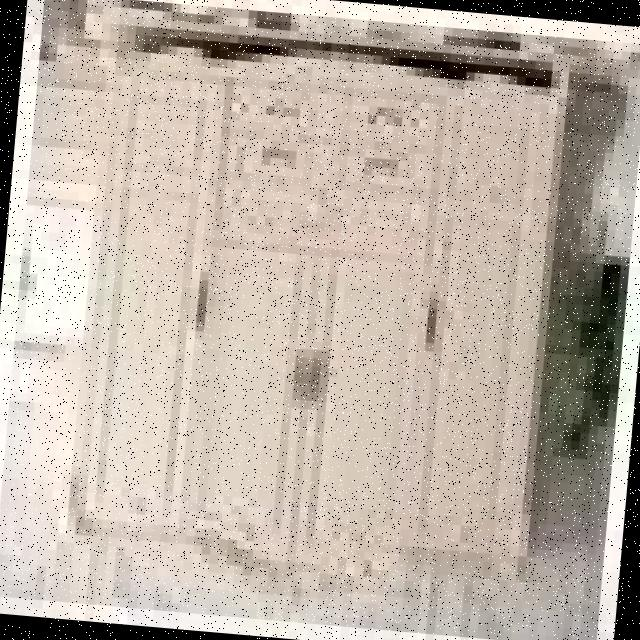Closet: (52, 26, 580, 617)
